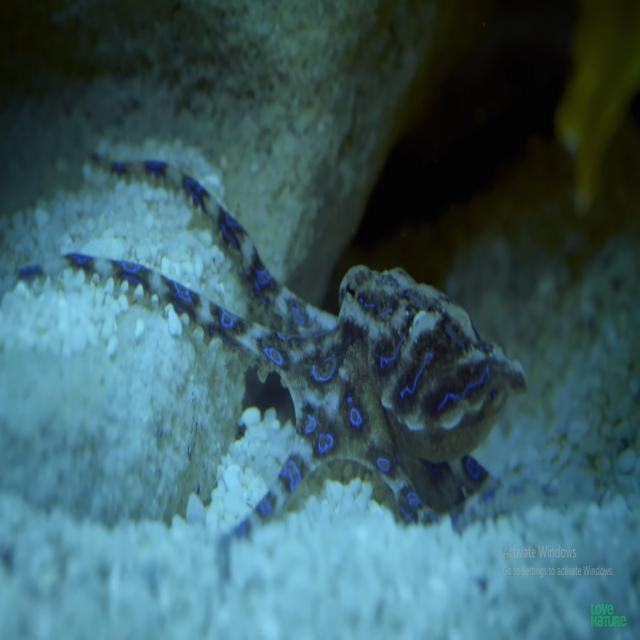blue_ringed_octopus: (16, 149, 531, 555)
